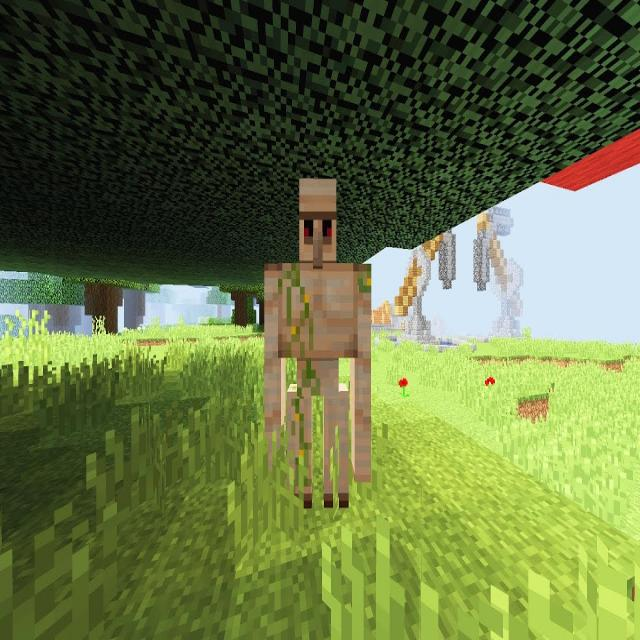Iron Golem: (260, 176, 375, 516)
